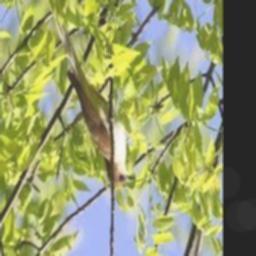Cuckoo: (53, 12, 135, 188)
